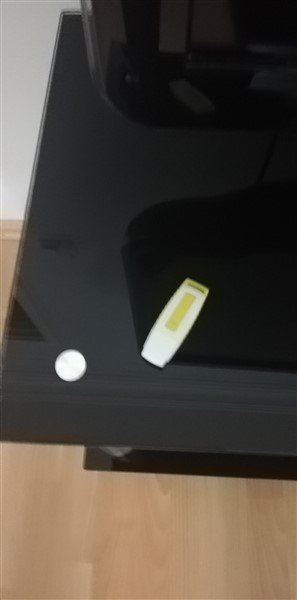flash disk: (136, 274, 211, 371)
